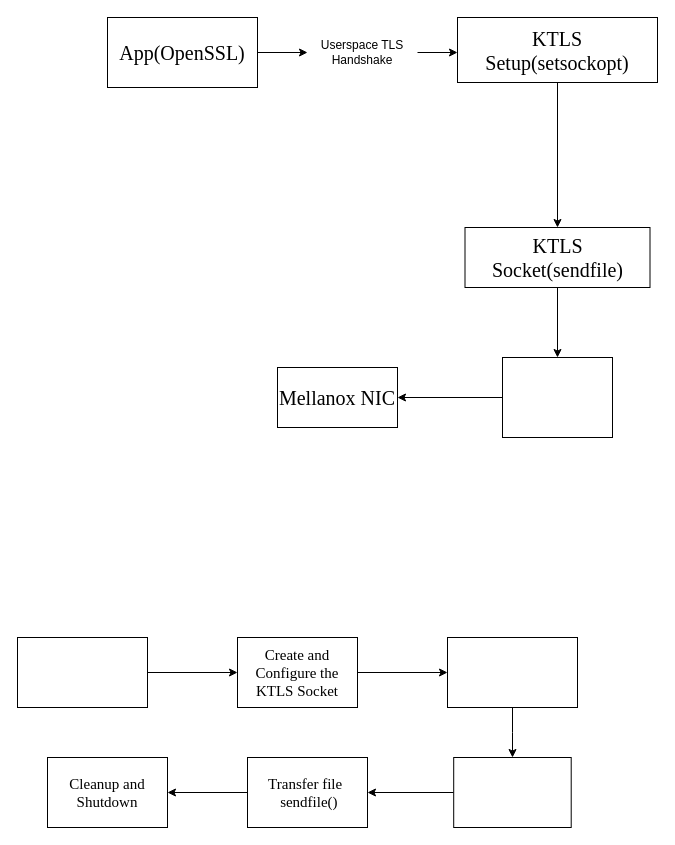
Some shapes in this 675 by 845 pixel diagram are drawn without their labels. The shapes that lost their labels are listed below. From the top down, each one's box as (x1, y1, x2, y2) in pixels, then its label:
(502, 356, 612, 438): Kernel or HW Offload
(16, 636, 148, 708): Initialize OpenSSL and Set Up SSL Context
(446, 636, 578, 708): Perform Userspace Handshake with OpenSSL
(453, 756, 571, 828): Enable KTLS on the Socket
